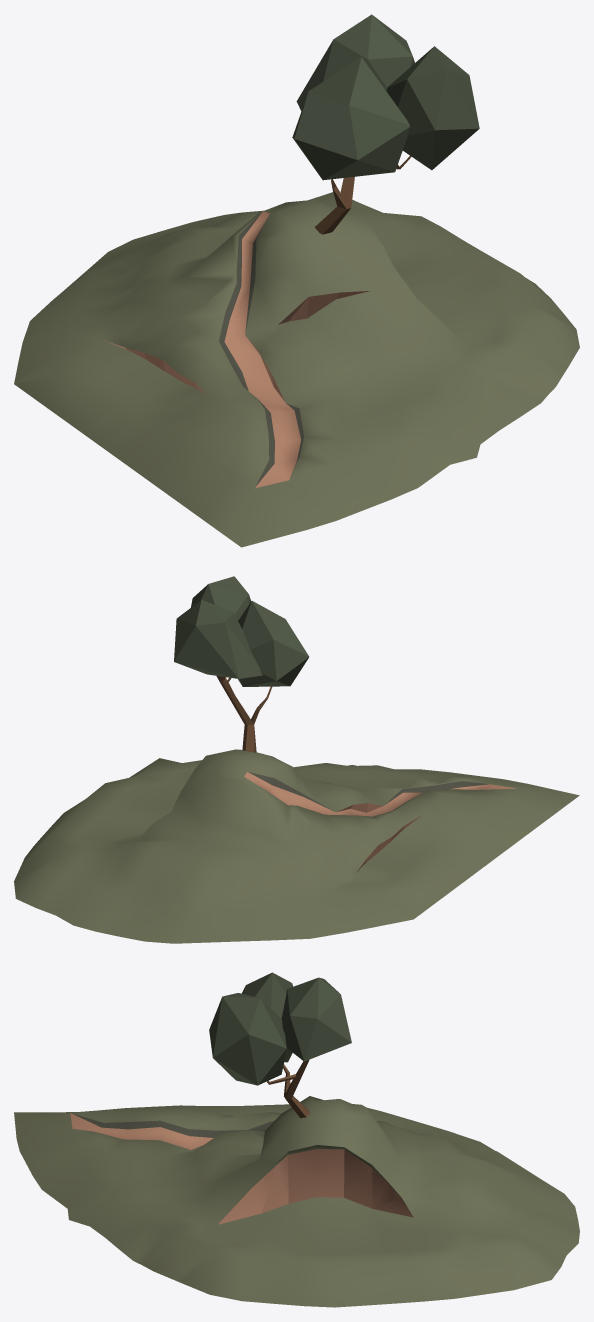
The model's file is hill.obj.
The picture shows the model from 3 angles, top to bottom: view 1: azimuth 30°, elevation 25°; view 2: azimuth 150°, elevation 25°; view 3: azimuth 270°, elevation 25°; orthographic projection. The views are drawn at different scales.
Visible parts, largest first — view 1: Hill-tree; view 2: Hill-tree; view 3: Hill-tree.
Part boxes in pixels (x1,y1,x2,y2): Hill-tree: (14,14,579,547); Hill-tree: (14,576,579,943); Hill-tree: (14,972,579,1307).
Size of the model in its own units: 13.56 by 8.41 by 16.48.
Materials: 1 (1 with a texture image).
